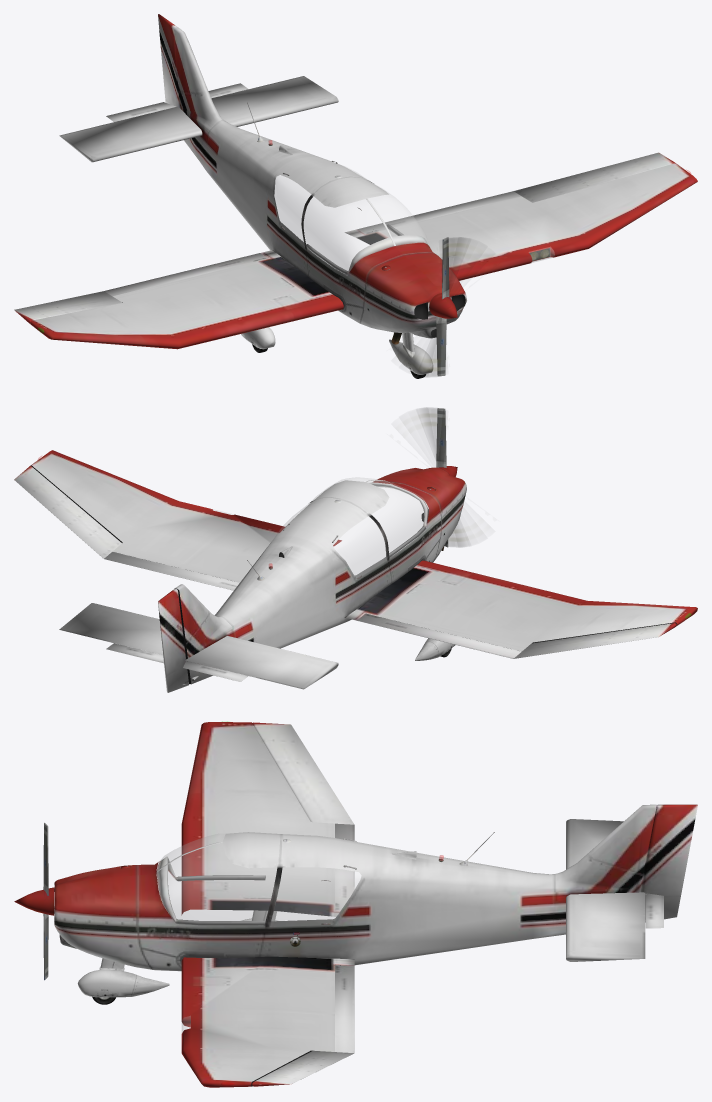
3 renders of one model, top to bottom at view 1: azimuth 30°, elevation 25°; view 2: azimuth 150°, elevation 25°; view 3: azimuth 270°, elevation 25°, orthographic. The views are drawn at different scales.
Visible parts, largest first — view 1: voletG, ailes, verriereAR, propdisc; view 2: voletG, ailes, verriereAR, propdisc; view 3: voletG, ailes, verriereAR.
Boxes of the visible parts, box(x1,y1,x2,y2) form: voletG: box(14, 14, 675, 378); ailes: box(30, 163, 697, 349); verriereAR: box(274, 166, 554, 274); propdisc: box(418, 237, 469, 376); voletG: box(14, 408, 677, 692); ailes: box(31, 450, 697, 651); verriereAR: box(211, 477, 428, 574); propdisc: box(418, 408, 469, 546); voletG: box(14, 722, 697, 1086); ailes: box(181, 722, 354, 1087); verriereAR: box(157, 834, 360, 1031).
Size of the model in its own units: 8.74 by 2.23 by 6.96.
5 materials, 2 textured.
